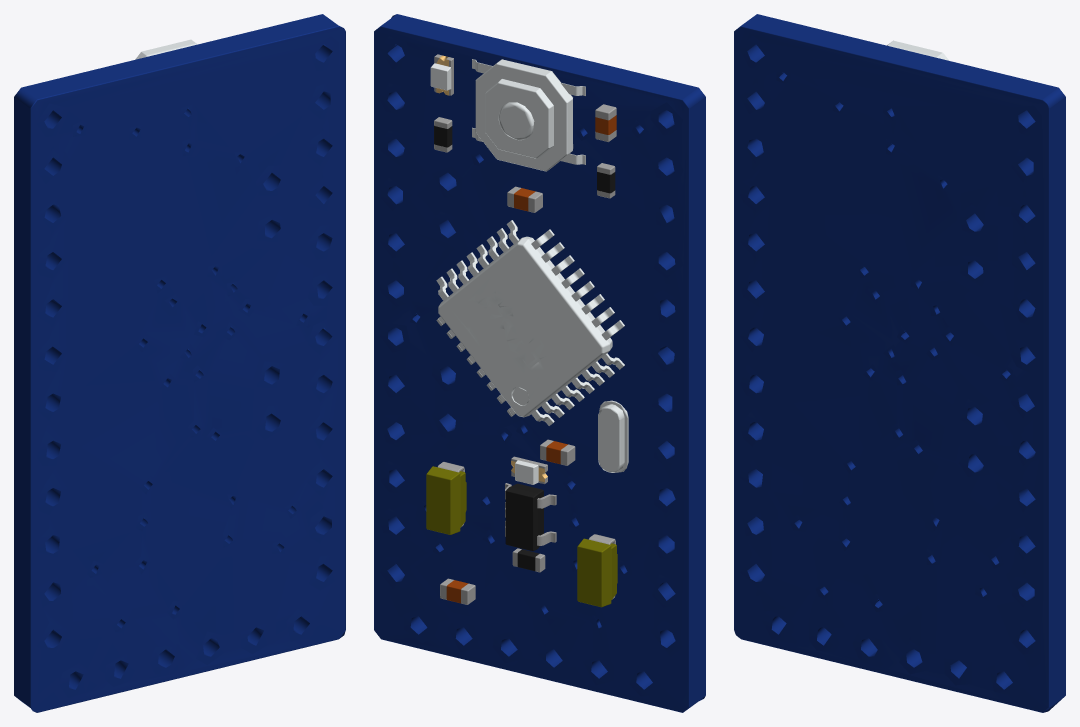
The model's file is sfe-sparkfun_arduino_pro_mini.glb.
The picture shows the model from 3 angles, left to right: view 1: azimuth 30°, elevation 25°; view 2: azimuth 150°, elevation 25°; view 3: azimuth 330°, elevation 25°; orthographic projection.
Parts seen in each view (by area): view 1: 0_0_0.25_0; view 2: 0_0_0.25_0, 0.75_0.8333333333333334_0.8333333333333334_0.85, 0.16666666666666666_0.16666666666666666_0_0, 0.4166666666666667_0.4166666666666667_0.4166666666666667_0, 0_0_0_0, 0.3333333333333333_0.08333333333333333_0_0, 0.8333333333333334_0.9166666666666666_0.9166666666666666_0.8; view 3: 0_0_0.25_0.
Boxes of the visible parts, box(x1,y1,x2,y2) form: 0_0_0.25_0: box(14, 14, 345, 712); 0_0_0.25_0: box(374, 14, 705, 712); 0.75_0.8333333333333334_0.8333333333333334_0.85: box(436, 59, 628, 472); 0.16666666666666666_0.16666666666666666_0_0: box(426, 466, 617, 607); 0.4166666666666667_0.4166666666666667_0.4166666666666667_0: box(434, 54, 616, 604); 0_0_0_0: box(434, 125, 615, 571); 0.3333333333333333_0.08333333333333333_0_0: box(446, 115, 616, 603); 0.8333333333333334_0.9166666666666666_0.9166666666666666_0.8: box(430, 63, 538, 484); 0_0_0.25_0: box(734, 14, 1065, 712).
Bounding box in the file's own units: 1.78 × 3.3 × 0.3259.
